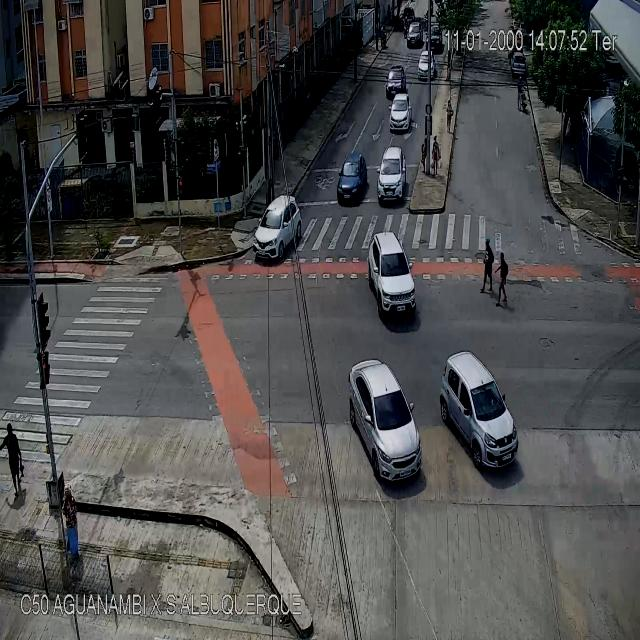Car: (439, 351, 518, 466), (348, 359, 420, 479), (368, 232, 415, 316), (253, 194, 302, 255), (379, 143, 410, 211), (337, 156, 368, 202), (388, 92, 410, 136), (385, 64, 408, 96), (416, 52, 436, 82), (425, 25, 442, 56), (407, 21, 421, 48), (512, 52, 524, 74)
Motorcycle: (403, 17, 408, 39), (424, 10, 429, 31)
